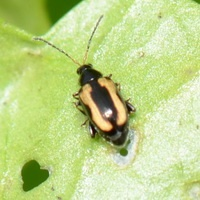insect: (33, 15, 135, 154)
